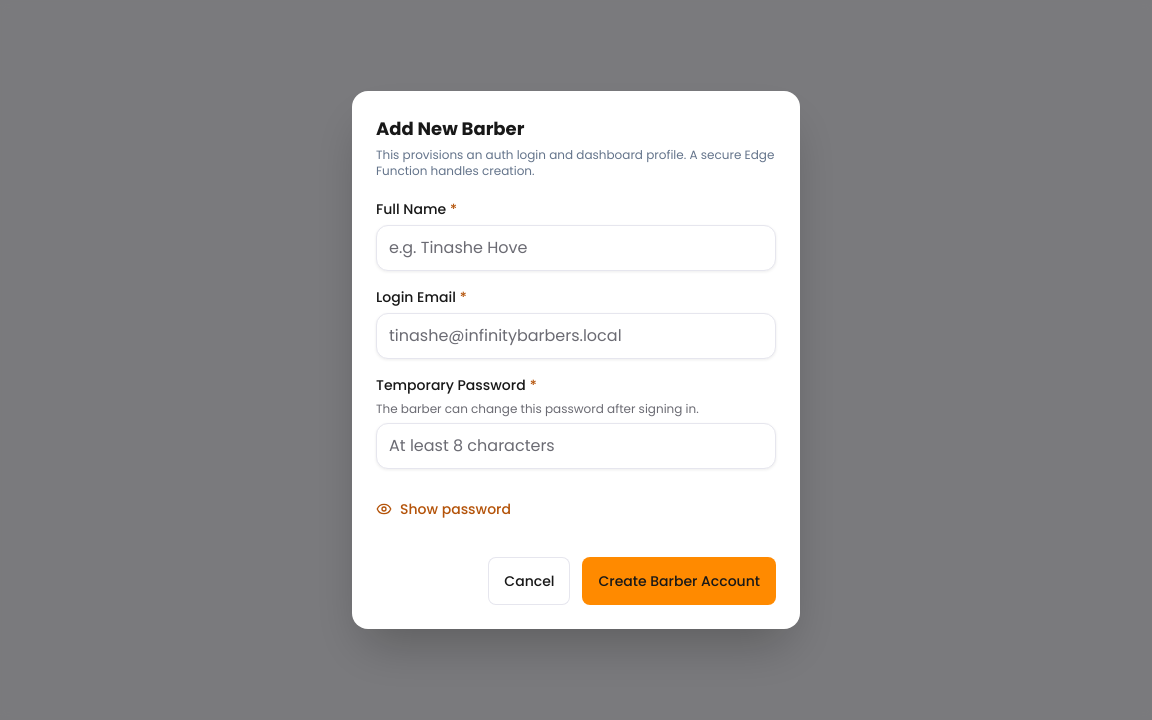
it: CreateBarberModal › shows the barber credentials after successful creation
Type "Tinashe Hove" into the field labelled "Full Name*" at (576, 248), box left=376, top=225, right=776, bottom=271
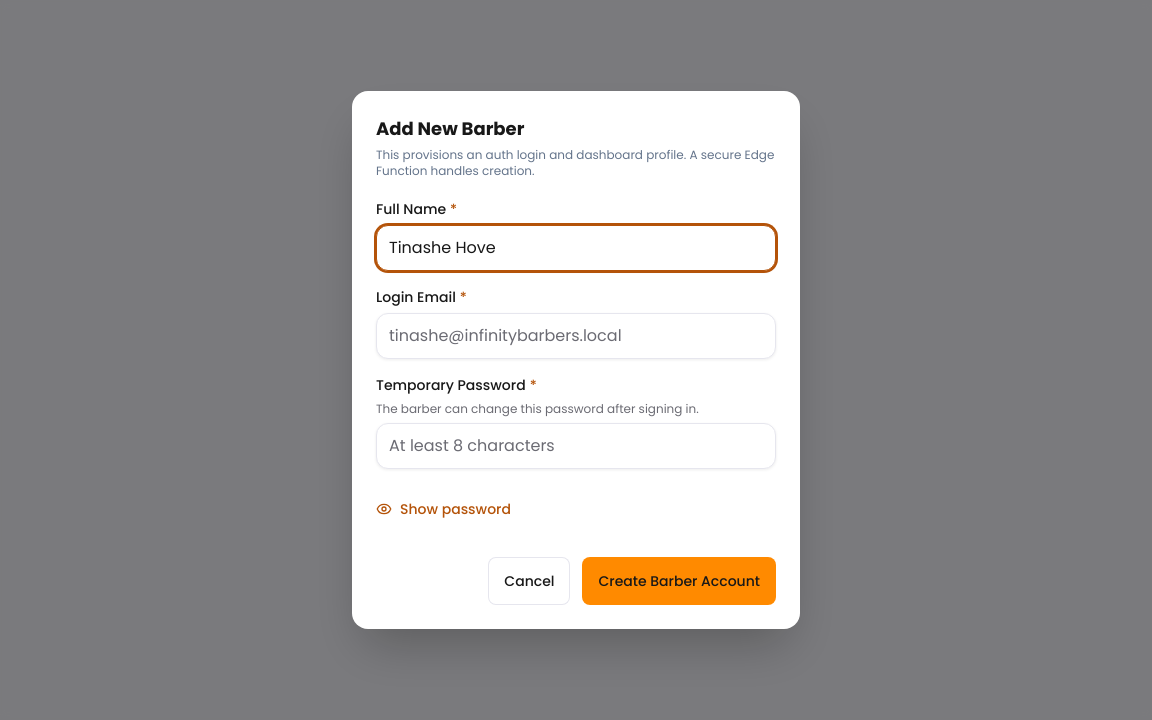
Type "tinashe@example.com" into the field labelled "Login Email*" at (576, 336), box left=376, top=313, right=776, bottom=359
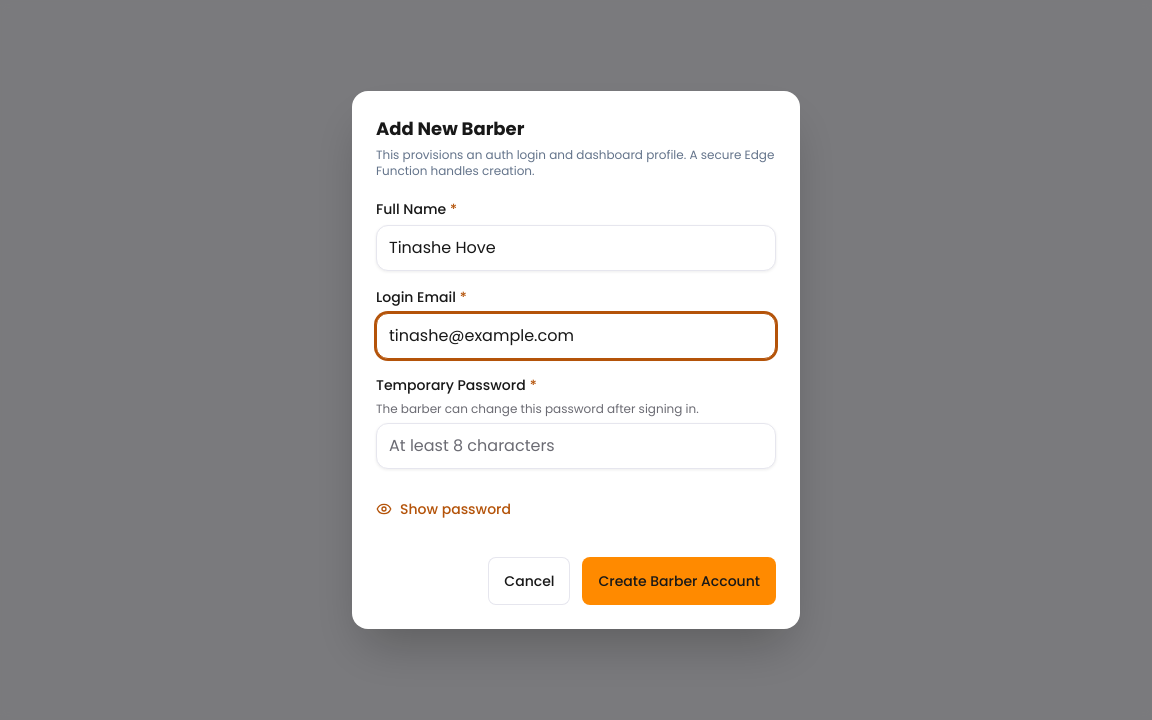
Type "safe-password-123" into the password field labelled "Temporary Password*" at (576, 446), box left=376, top=423, right=776, bottom=469
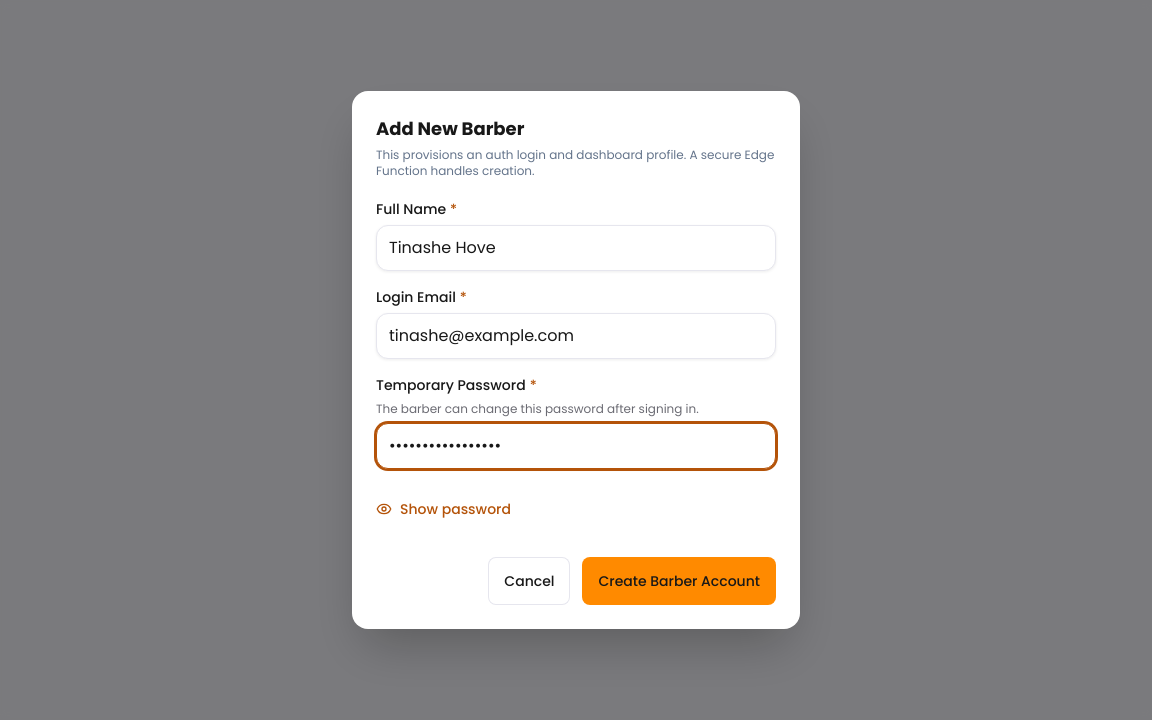
Click the button "Create Barber Account" at (679, 581), box left=582, top=557, right=776, bottom=605
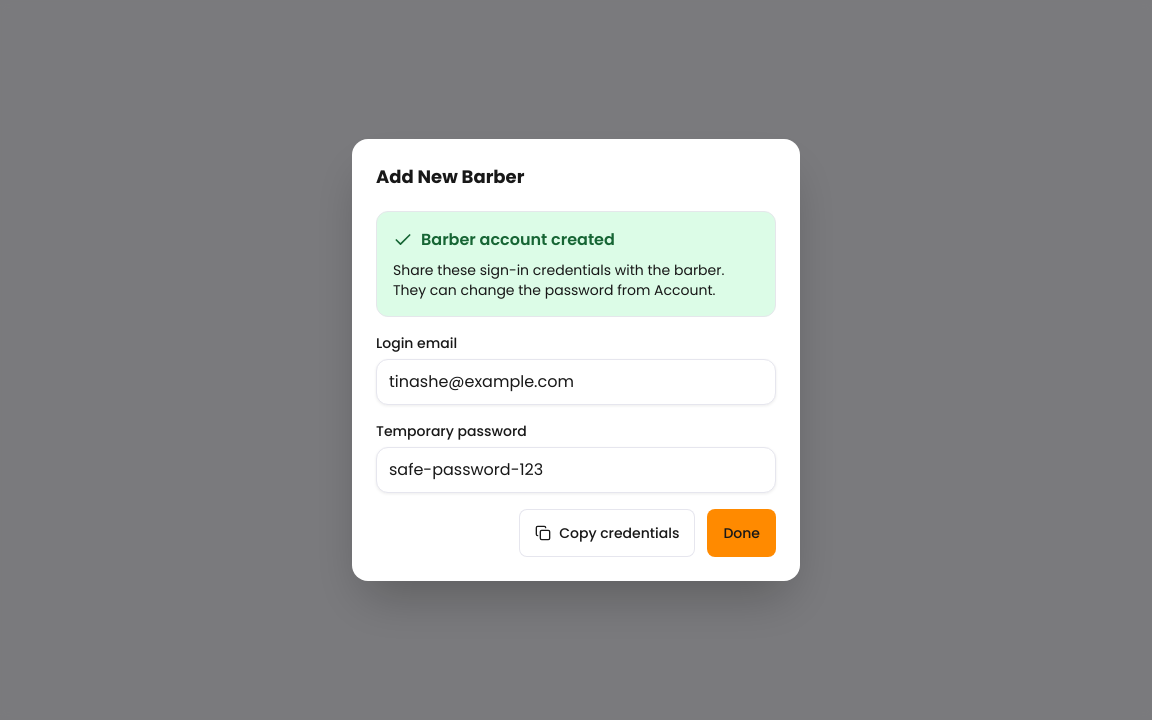
Result: the text "Barber account created" is shown at left=393, top=228, right=615, bottom=251
Result: the field labelled "Login email" holds "tinashe@example.com" at left=376, top=359, right=776, bottom=405
Result: the field labelled "Temporary password" holds "safe-password-123" at left=376, top=447, right=776, bottom=493
